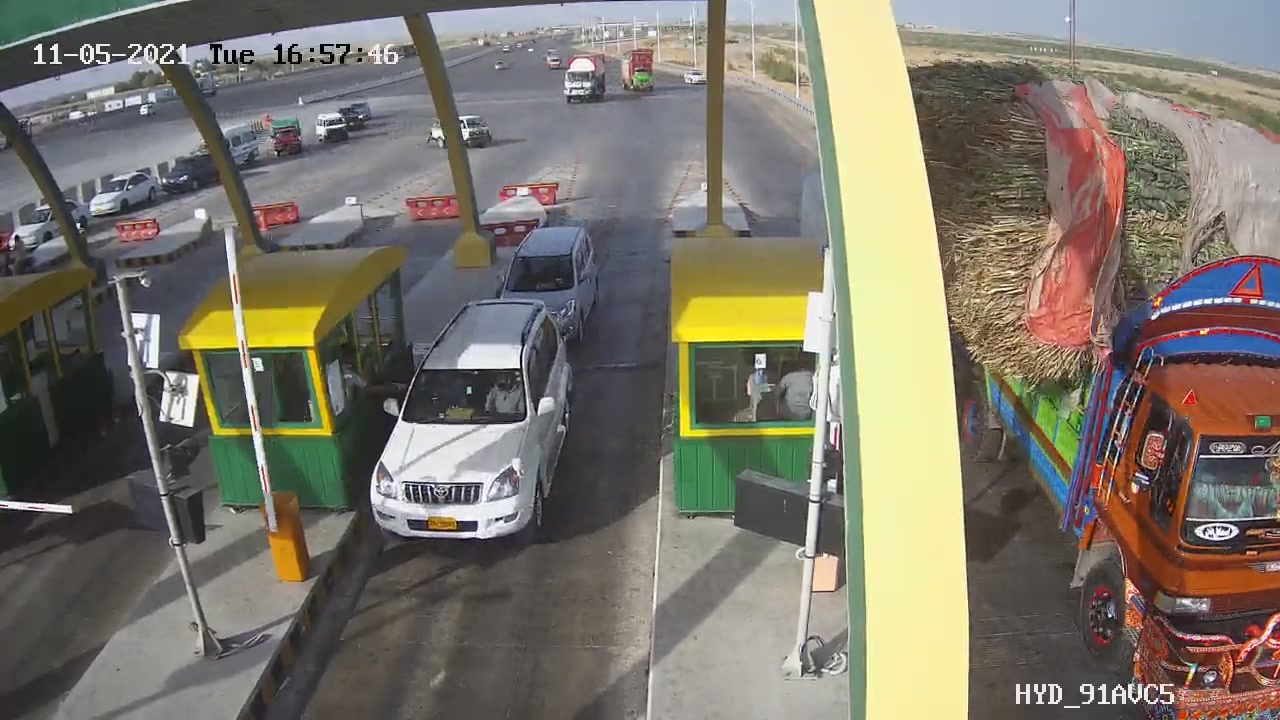F1: (350, 285, 592, 569), (476, 212, 616, 360)
